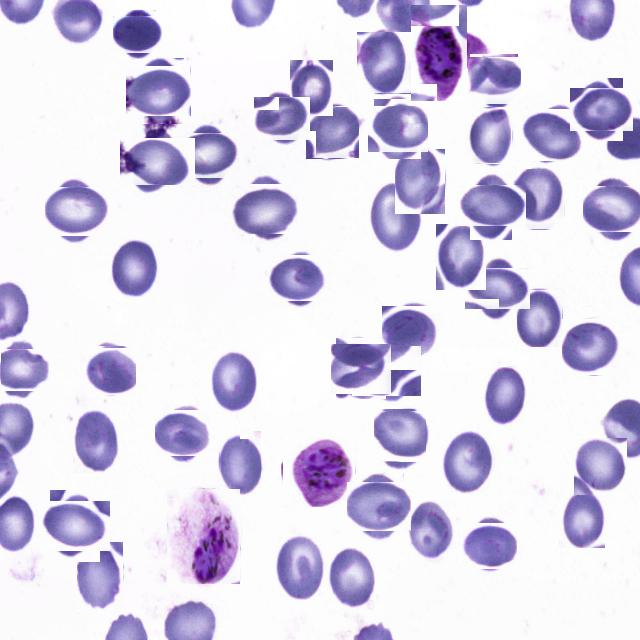difficult: (401, 15, 477, 90)
red blood cell: (126, 130, 188, 192), (441, 429, 499, 495), (364, 184, 420, 252), (44, 496, 106, 556), (357, 341, 417, 401), (357, 32, 412, 94), (236, 180, 294, 238), (130, 62, 188, 120), (562, 318, 620, 376), (276, 534, 326, 601), (77, 542, 123, 614), (48, 182, 105, 240), (523, 106, 580, 164), (436, 224, 486, 290), (512, 169, 566, 230), (395, 149, 445, 214), (351, 478, 408, 535), (106, 240, 159, 300), (210, 350, 259, 414), (463, 178, 519, 234), (327, 546, 375, 610), (73, 407, 119, 473), (408, 501, 456, 564), (574, 438, 627, 495), (484, 367, 532, 429), (334, 341, 388, 396), (180, 128, 234, 182), (470, 262, 524, 316), (370, 102, 424, 156), (588, 181, 640, 237), (574, 83, 628, 136), (220, 431, 262, 498), (272, 252, 326, 304), (306, 106, 358, 159), (374, 409, 426, 462), (384, 304, 436, 356), (559, 490, 605, 548), (517, 290, 563, 348), (464, 520, 516, 571), (158, 408, 208, 458), (257, 94, 307, 144), (469, 56, 519, 106), (468, 109, 512, 164), (290, 60, 333, 116), (87, 347, 136, 396), (0, 345, 46, 395), (115, 12, 158, 56)
schizont: (167, 489, 241, 585), (282, 434, 354, 506)
